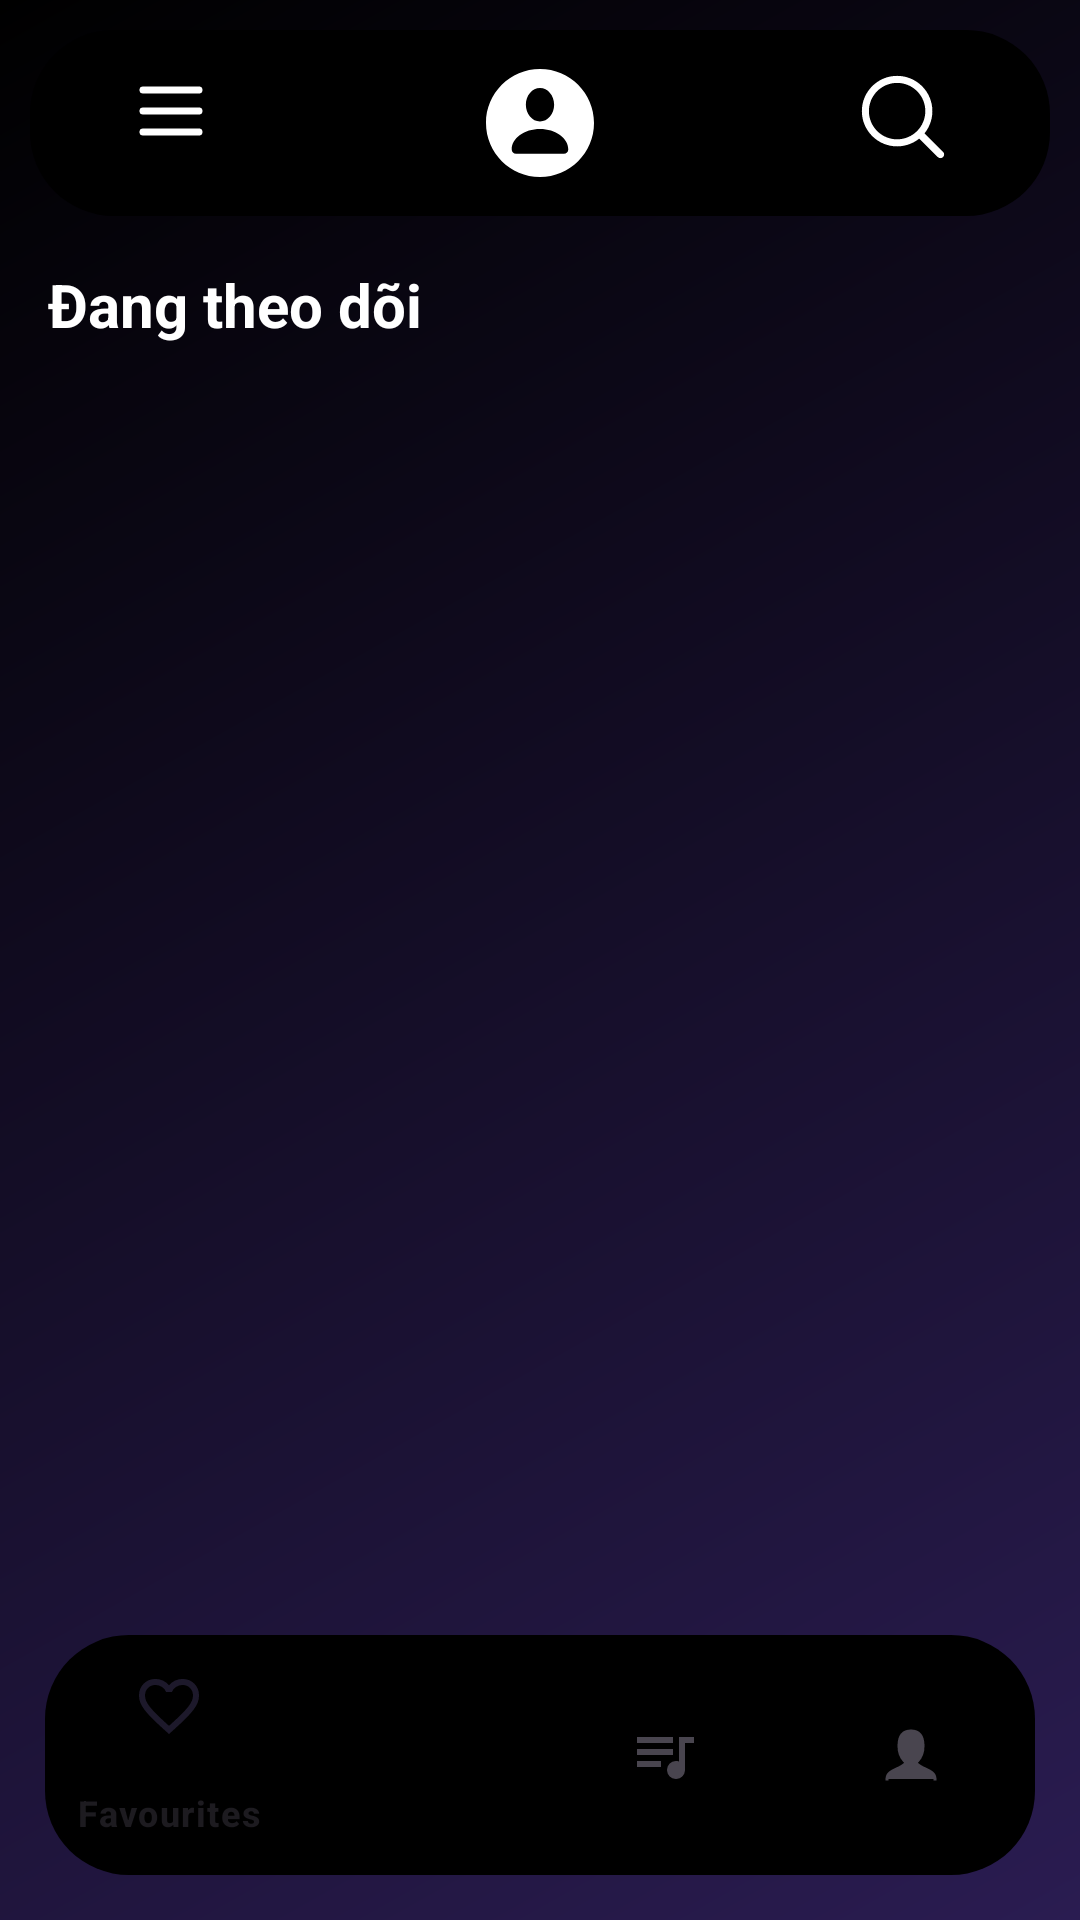

Screen size 1080px×1920px. Icon name, then its center in pixels as (x,y):
menu: (171,111)
search: (902,116)
